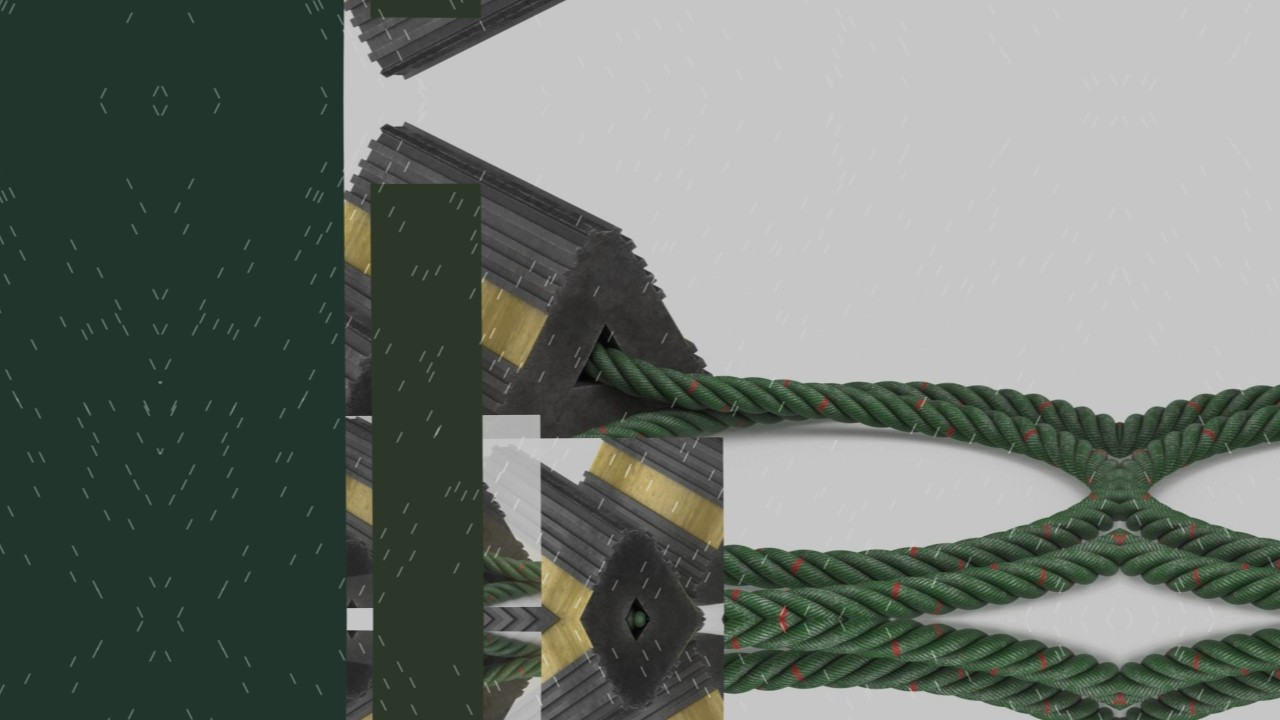chock: (160, 195, 533, 589), (304, 120, 728, 459), (0, 195, 160, 589), (424, 438, 724, 620), (299, 415, 541, 609), (304, 0, 728, 81), (424, 619, 724, 720), (160, 650, 533, 720), (299, 630, 541, 720)
